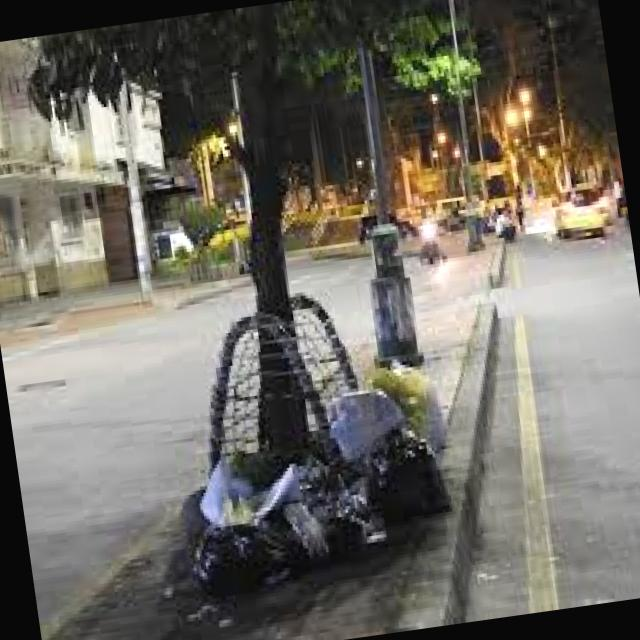garbage: (119, 294, 468, 596)
